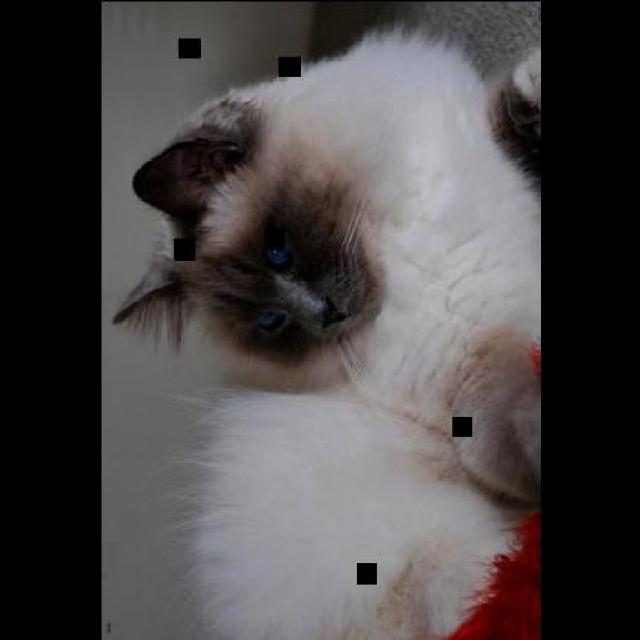unauthorized: (111, 19, 540, 638)
